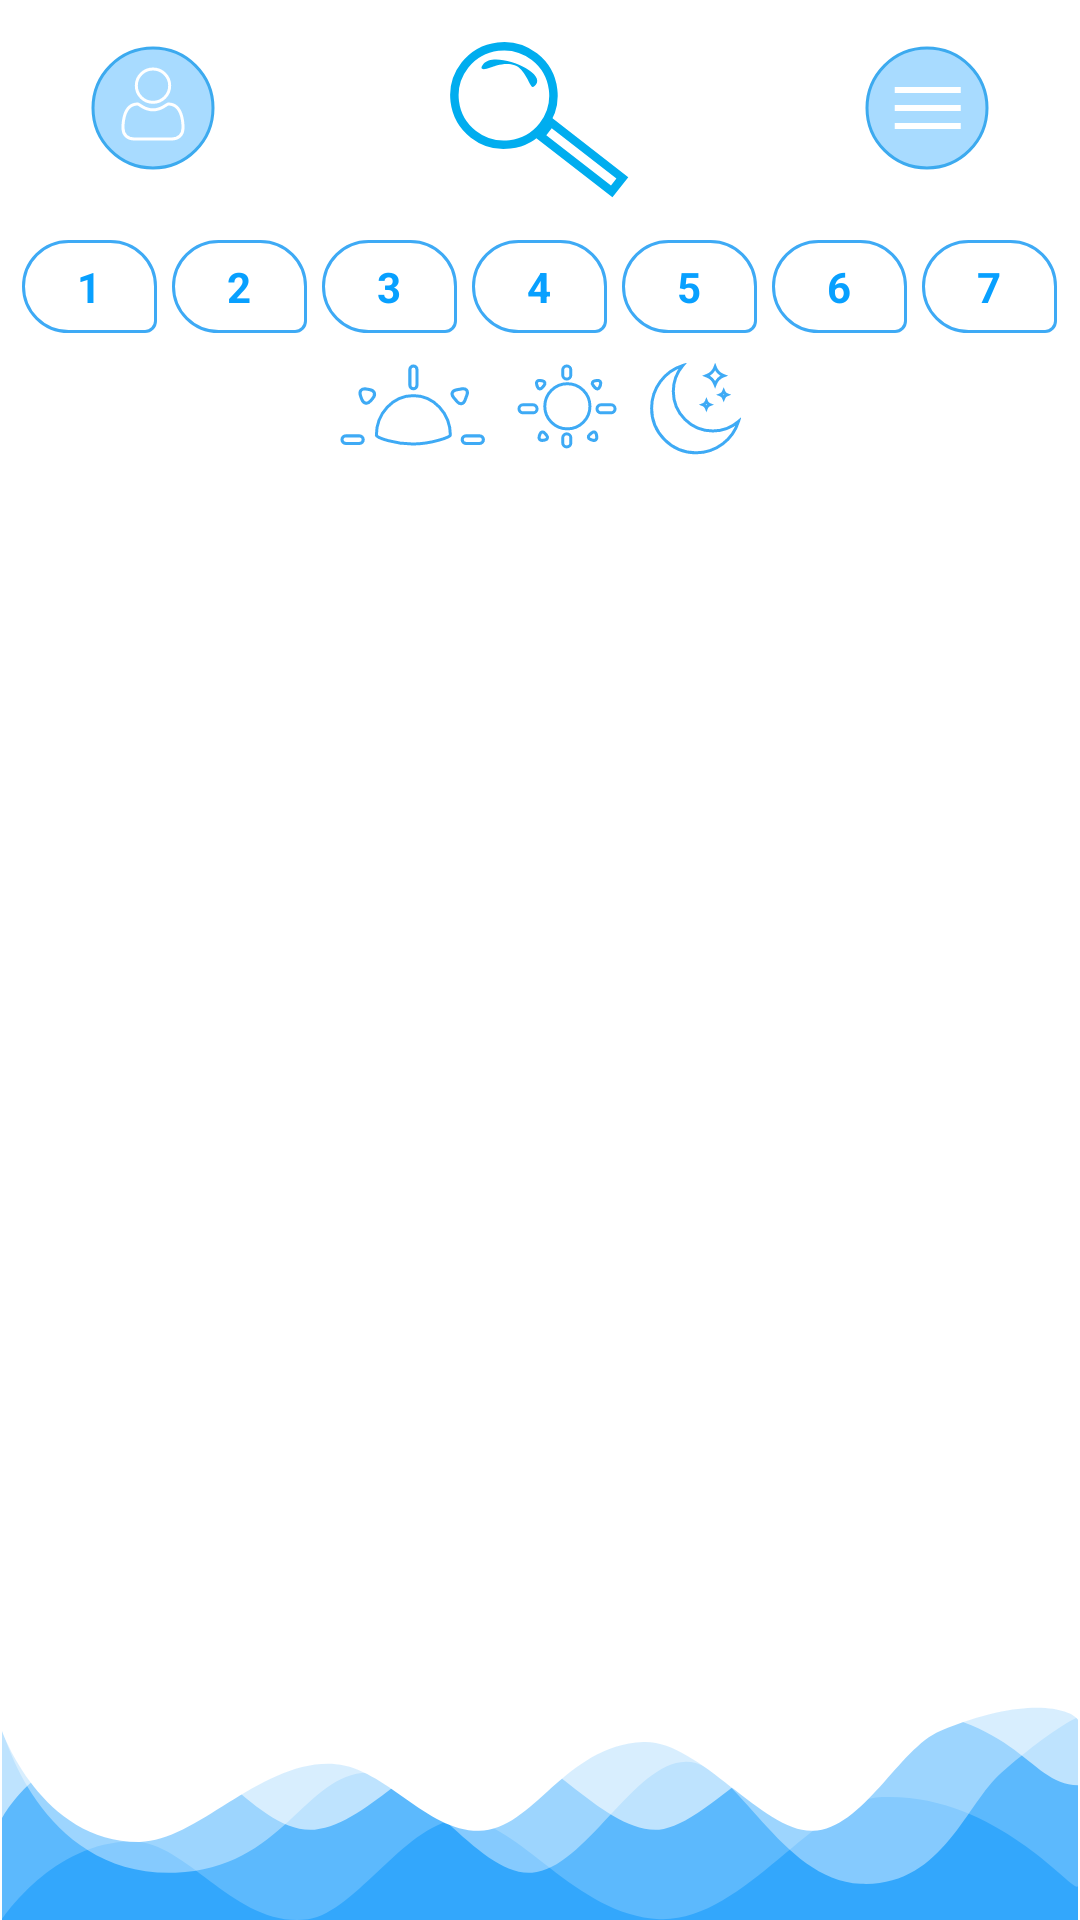

Screen size 1080x1920. Icon name, then its box in pixels as (x1, y1, x2, y2):
gotoprofile: (91, 46, 215, 170)
gotosetting: (865, 46, 989, 170)
iconafternoonoff: (517, 364, 617, 449)
iconfindblue: (450, 42, 628, 197)
iconmorningoff: (340, 364, 485, 446)
iconnightoff: (650, 363, 741, 455)
